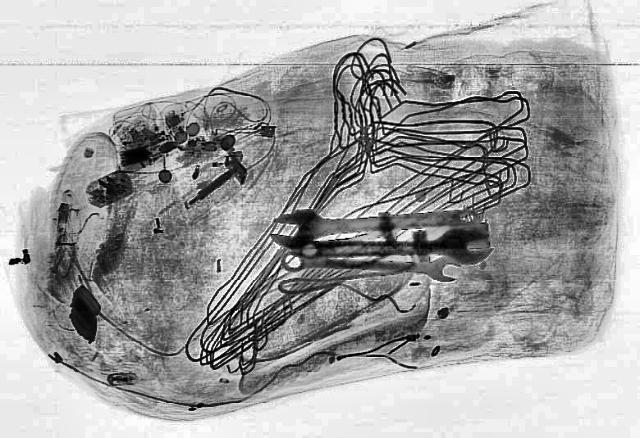Wrench: (266, 198, 482, 254), (300, 225, 490, 267), (278, 244, 460, 282)
